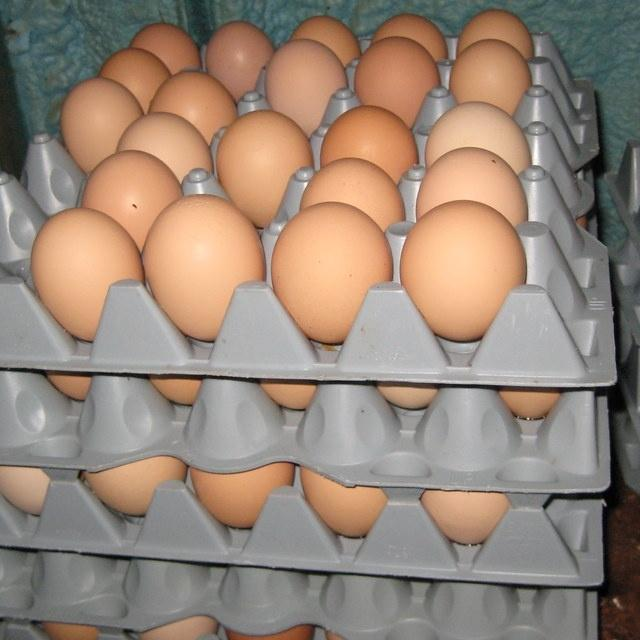egg: (141, 193, 265, 341), (399, 200, 526, 341), (270, 201, 392, 343), (29, 207, 143, 340), (215, 109, 313, 227), (80, 150, 182, 251), (415, 147, 528, 226), (264, 38, 347, 135), (299, 157, 405, 232), (353, 36, 440, 127), (60, 77, 142, 173), (319, 105, 418, 184), (424, 101, 531, 174), (116, 111, 213, 184), (189, 461, 293, 528), (148, 70, 237, 144), (300, 466, 388, 537), (448, 39, 531, 114), (83, 455, 186, 515), (205, 20, 273, 100), (420, 489, 509, 545), (98, 47, 170, 112), (457, 9, 533, 59), (129, 22, 200, 74), (372, 12, 447, 61), (290, 15, 361, 66), (0, 465, 50, 515), (498, 388, 561, 418), (225, 624, 313, 640), (325, 629, 399, 640)
